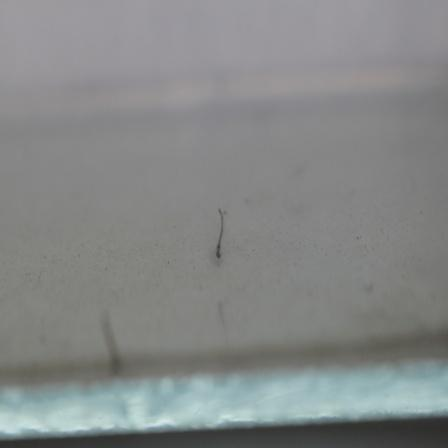Jentik-Nyamuk: (208, 203, 230, 263)
